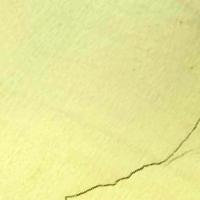crack: (45, 113, 199, 199)
